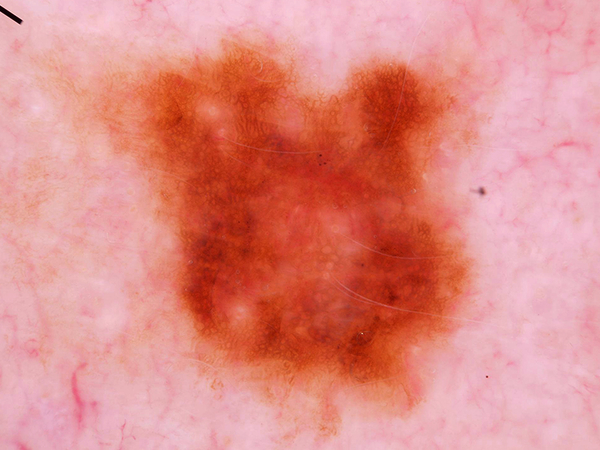Detected Lesion: (111, 45, 487, 412)
